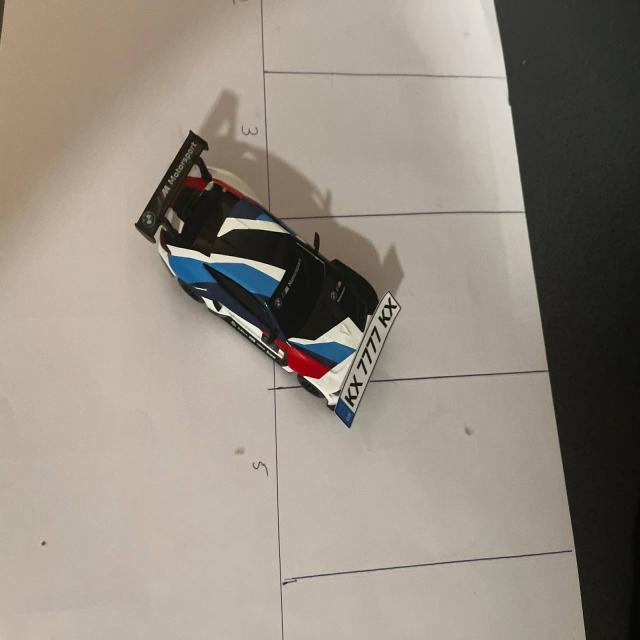cars: (110, 99, 418, 470)
